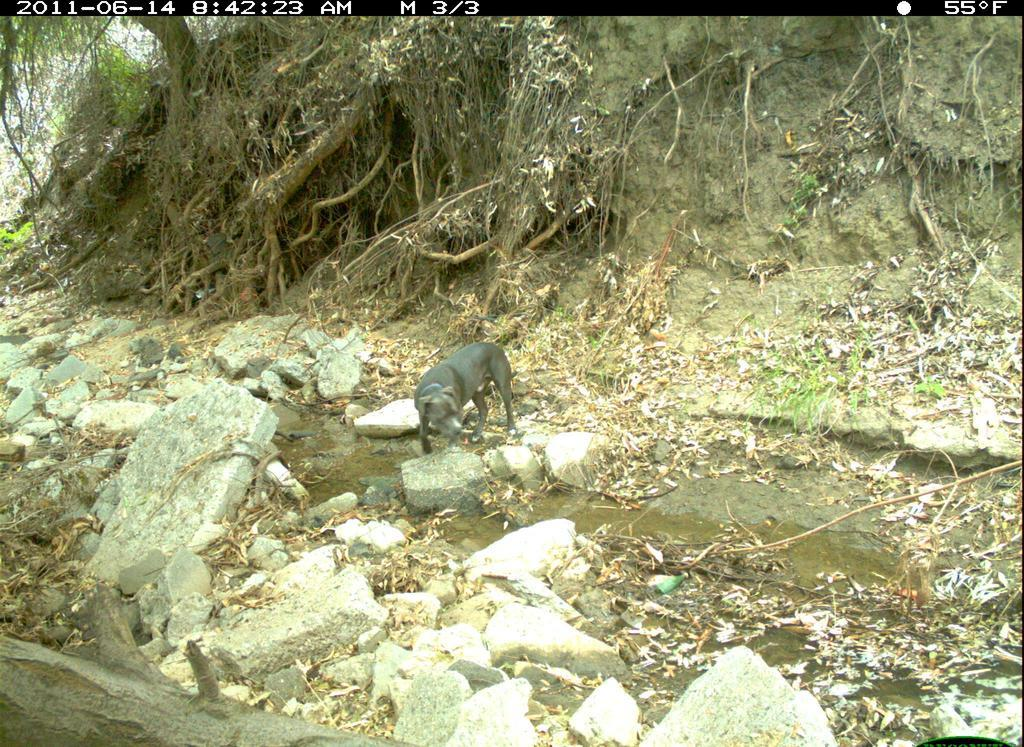dog: (408, 338, 525, 457)
